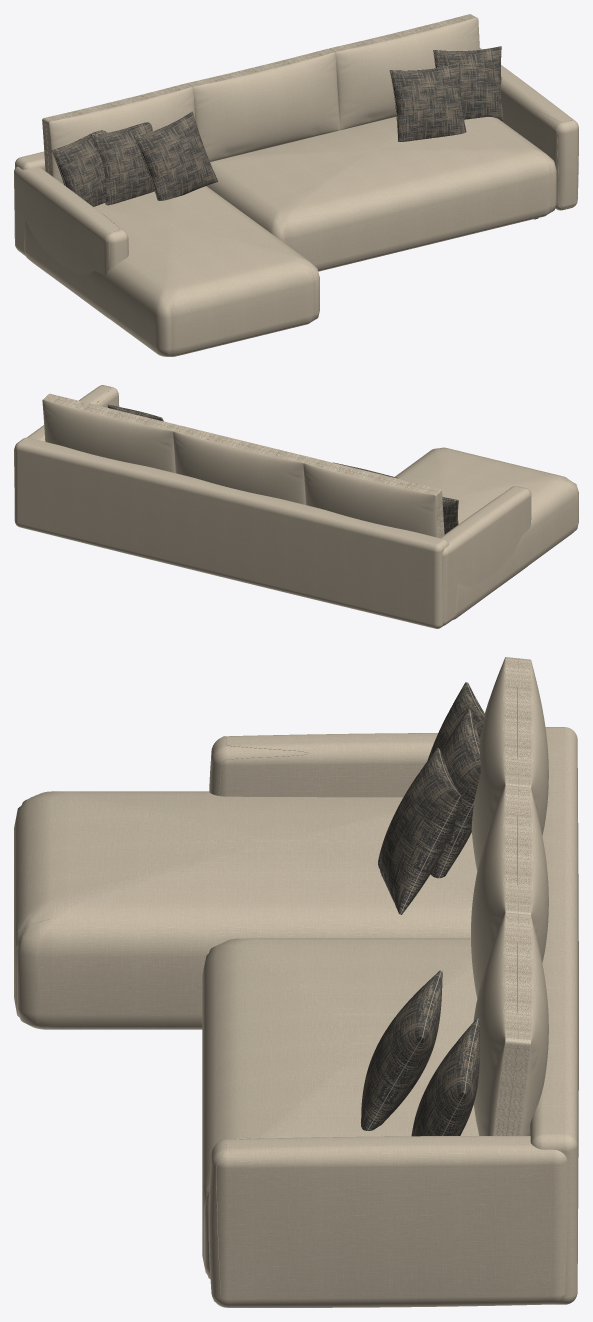
Rendered from chaise.glb.
3 renders of one model, top to bottom at view 1: azimuth 30°, elevation 25°; view 2: azimuth 150°, elevation 25°; view 3: azimuth 270°, elevation 25°, orthographic. The views are drawn at different scales.
Visible parts, largest first — view 1: fabric (×2), accent; view 2: fabric (×2), accent; view 3: fabric (×2), accent, pillows.
Part boxes in pixels (x1,y1,x2,y2): fabric (×2): [14, 14, 578, 356]; accent: [51, 46, 503, 206]; fabric (×2): [14, 385, 578, 628]; accent: [107, 404, 458, 534]; fabric (×2): [14, 657, 578, 1307]; accent: [361, 682, 484, 1136]; pillows: [367, 682, 484, 1135].
Bounding box in the file's own units: 3.2 × 0.942 × 1.8.
Materials: 5 (2 with a texture image).
